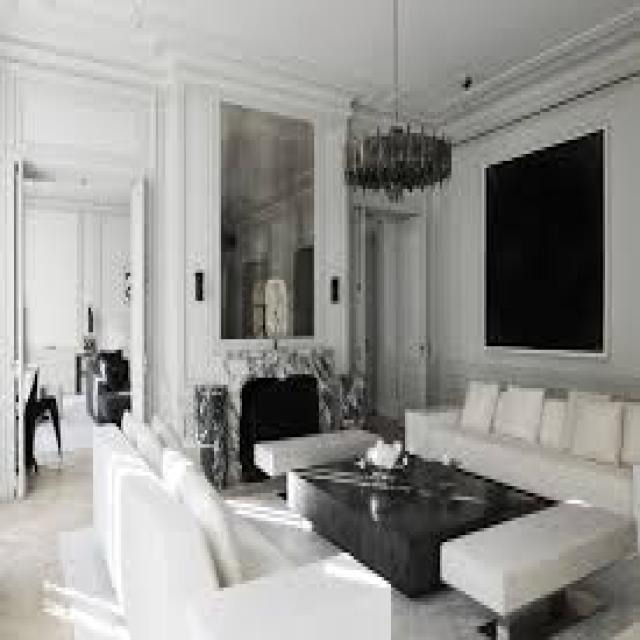Lamp: (342, 101, 458, 206), (262, 280, 288, 346)
Sofa: (65, 428, 393, 640), (409, 387, 640, 502)
Table: (436, 503, 628, 628), (293, 458, 516, 549)
